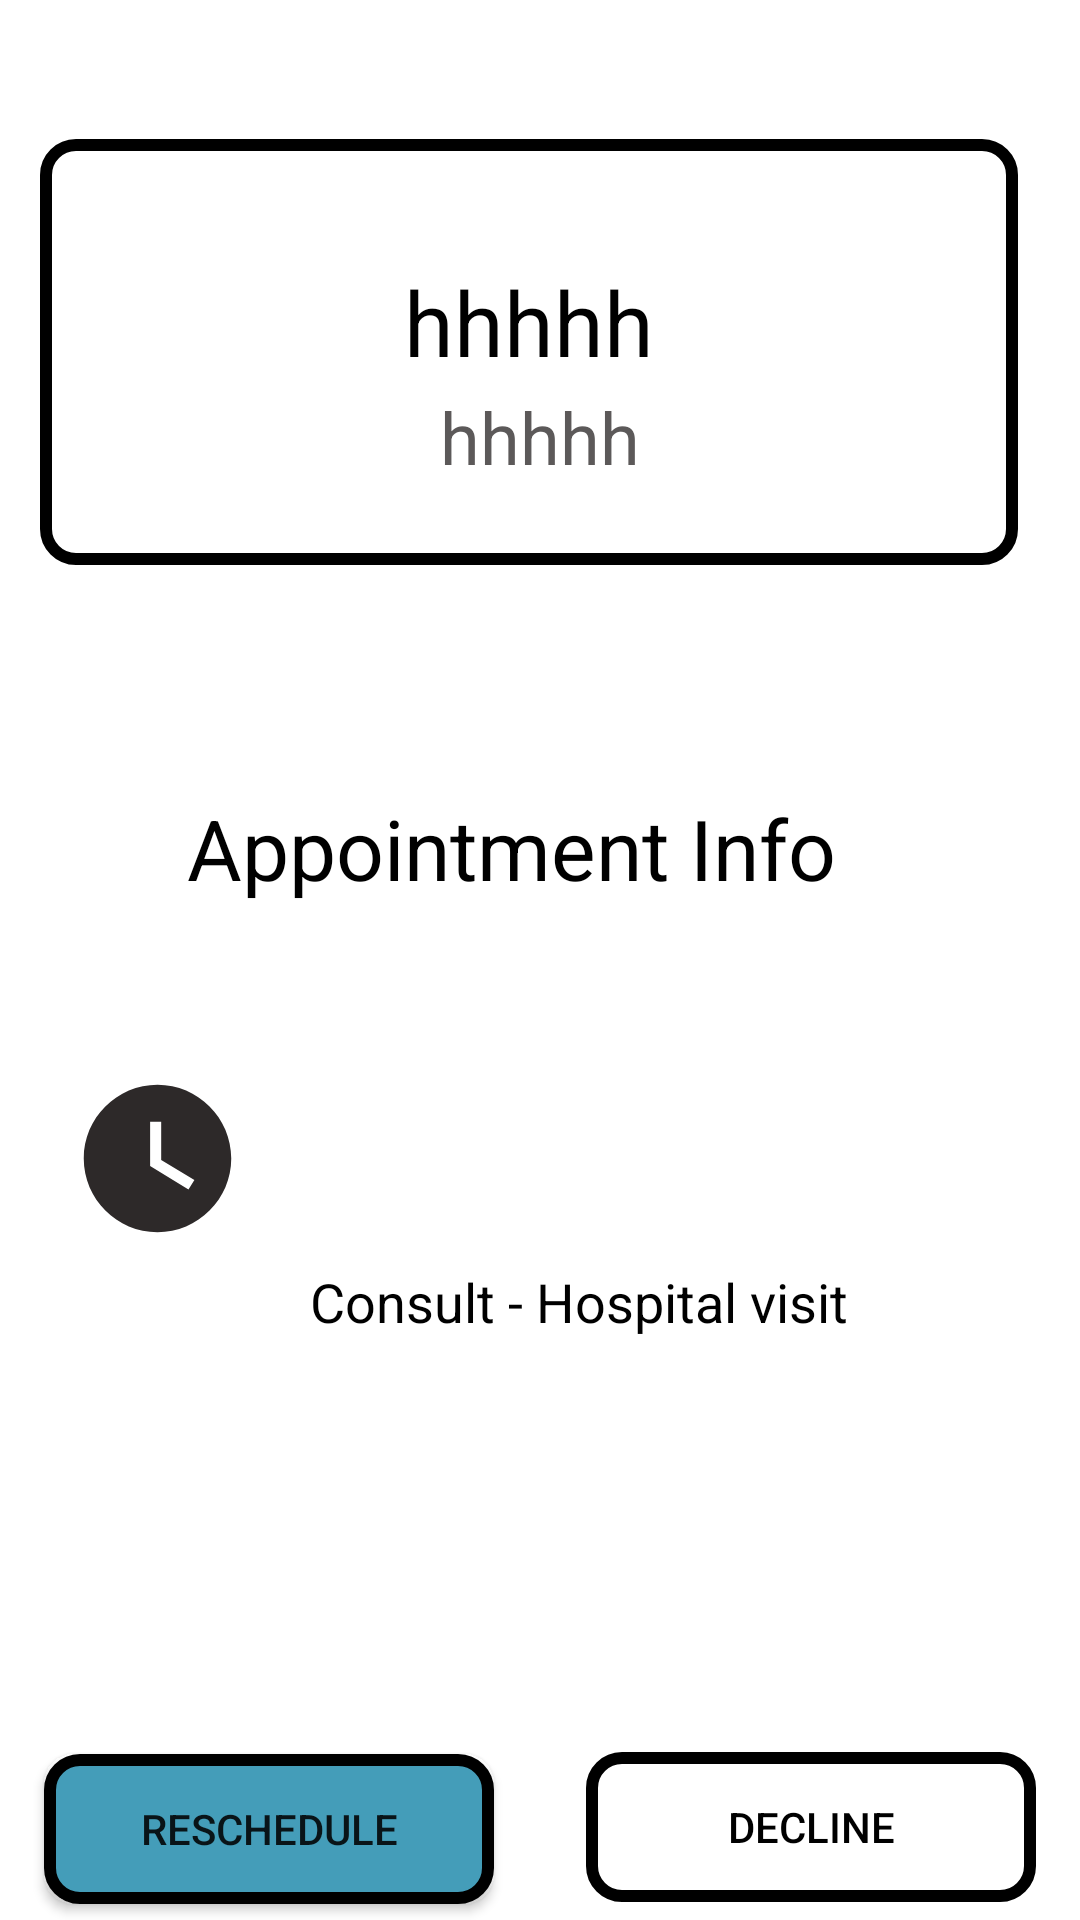

Where icons sit on this 1080 x 1920 app screen, as (x1, y1, x2, y2):
watch later: (83, 1084, 232, 1233)
